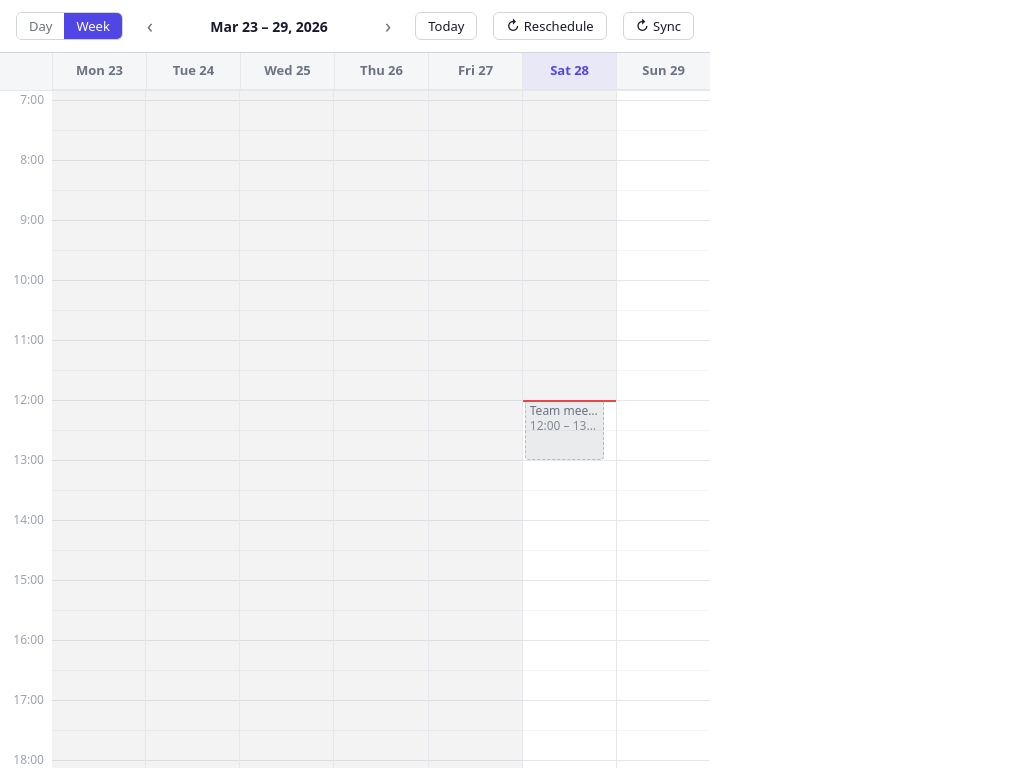
Test: CalendarView — external event editing › surfaces a sanitized write (HTTP 503) error and keeps the dialog open
(page scrolled)
Click the button with class "external-event--interactive" at (564, 430), box [525,400,604,460]
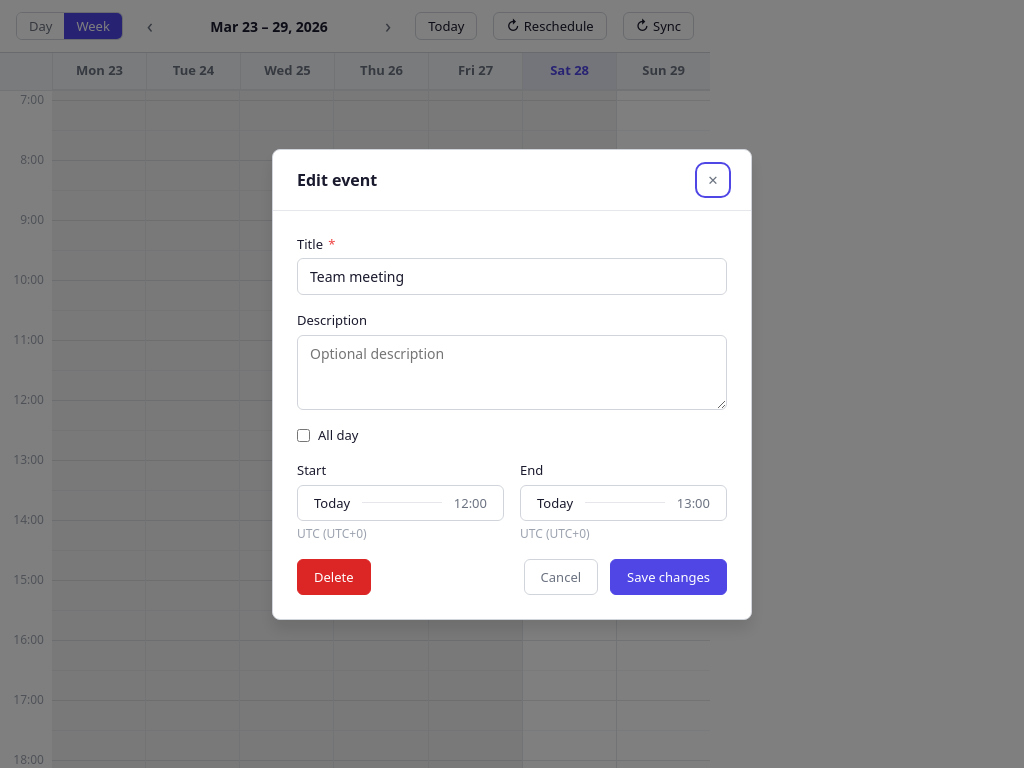
Submit the form with class "event-form", box [297,234,727,594]
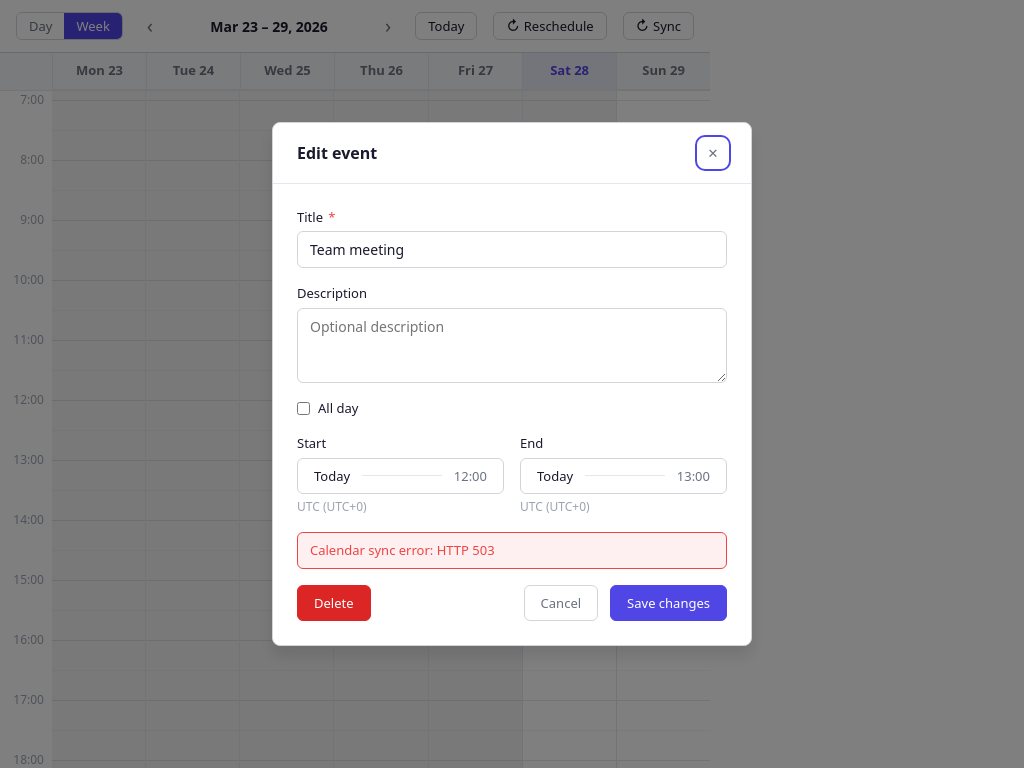
Expected: the heading "Edit event" is shown, [297,143,377,163]
Expected: the message shows "HTTP 503", [310,541,495,559]
